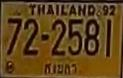1: (106, 18, 110, 56)
2: (22, 18, 38, 54), (51, 18, 65, 55)
5: (67, 18, 82, 55)
7: (7, 18, 21, 54)
8: (84, 18, 98, 55)
SKA: (41, 60, 79, 77)
